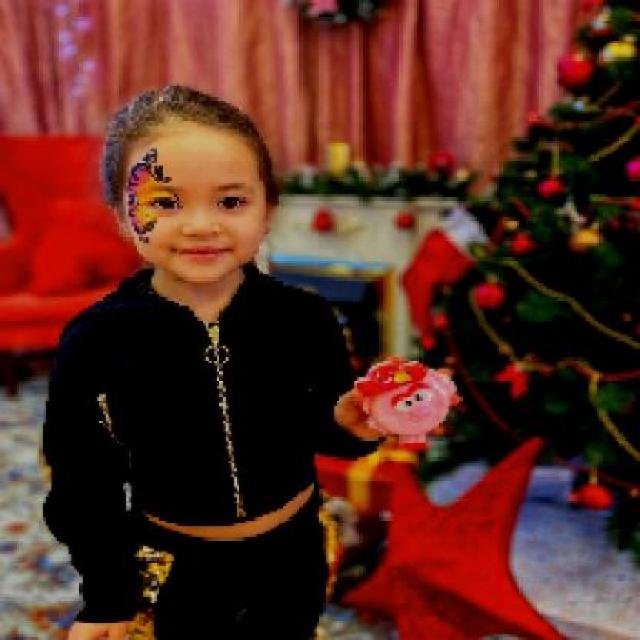child: (37, 85, 389, 638)
